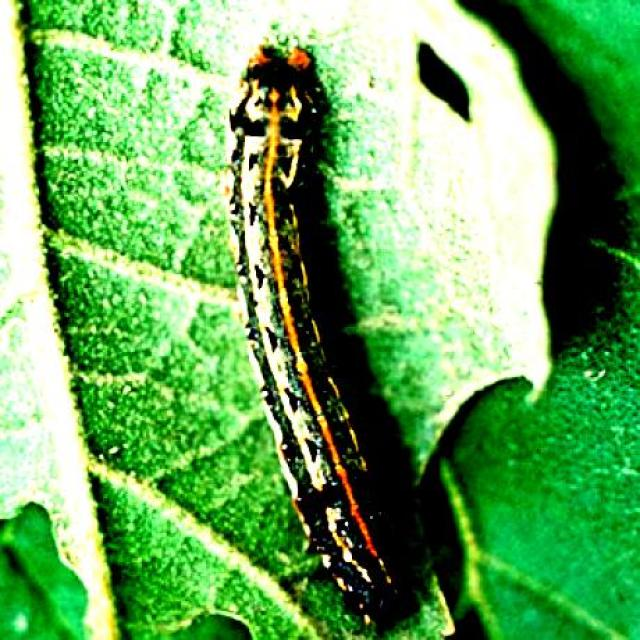armyworm: (224, 39, 399, 633)
